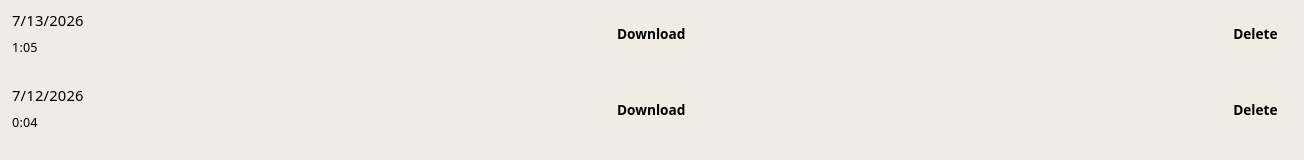
Test: Mp3Panel › deletes a row on success
Click the button with aria-label "Delete MP3" at coordinates (1255, 34), box 1219,19 -> 1292,49
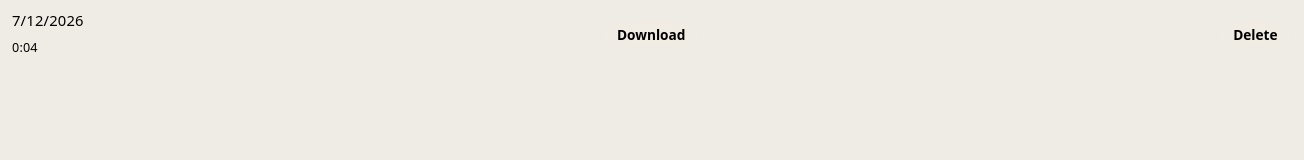
Expected: the text "0:04" is shown, 12,39 -> 38,56
Expected: the text "1:05" is gone
